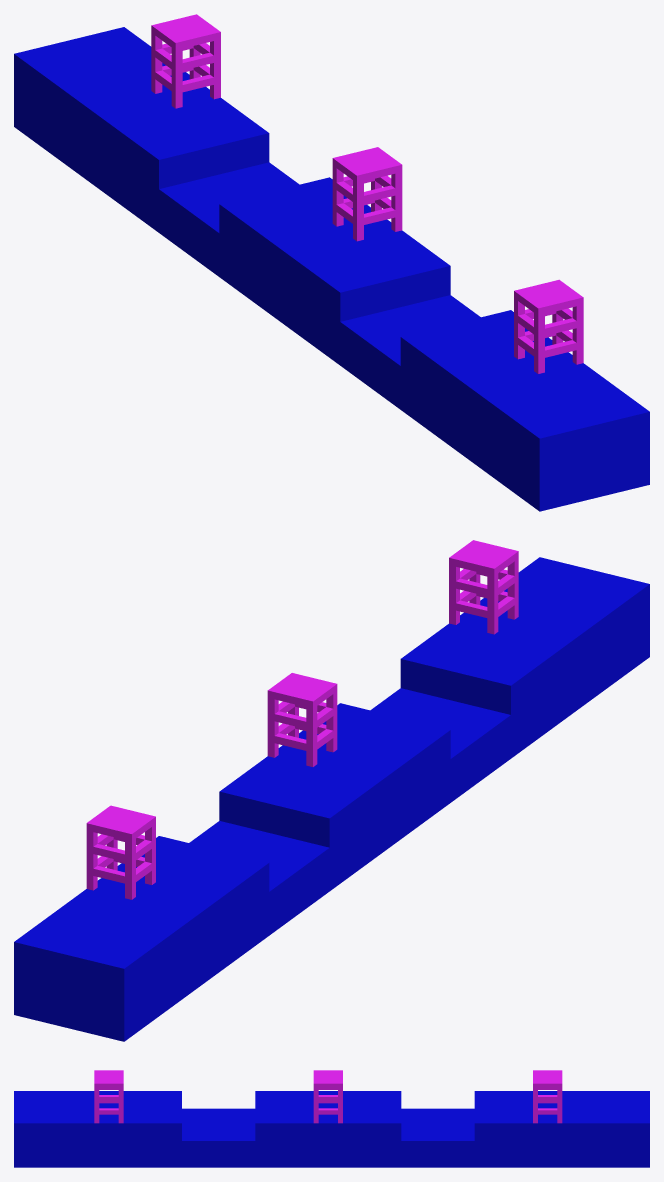
File: Level_3_scene4_colored.fbx
3 renders of one model, top to bottom at view 1: azimuth 30°, elevation 25°; view 2: azimuth 150°, elevation 25°; view 3: azimuth 270°, elevation 25°, orthographic. The views are drawn at different scales.
Visible parts, largest first — view 1: Cube.025, Cube.027, Cube.028, Cube.026; view 2: Cube.025, Cube.027, Cube.026, Cube.028; view 3: Cube.025, Cube.026, Cube.028, Cube.027.
Boxes of the visible parts, box(x1,y1,x2,y2) form: Cube.025: box(14, 27, 649, 511); Cube.027: box(332, 147, 402, 241); Cube.028: box(151, 14, 220, 108); Cube.026: box(514, 279, 583, 373); Cube.025: box(14, 557, 649, 1041); Cube.027: box(267, 673, 337, 766); Cube.026: box(449, 540, 518, 634); Cube.028: box(86, 805, 155, 899); Cube.025: box(14, 1091, 649, 1167); Cube.026: box(94, 1070, 123, 1123); Cube.028: box(533, 1070, 562, 1123); Cube.027: box(313, 1070, 342, 1123).
Bounding box in the file's own units: 1580 × 1900 × 13050.
